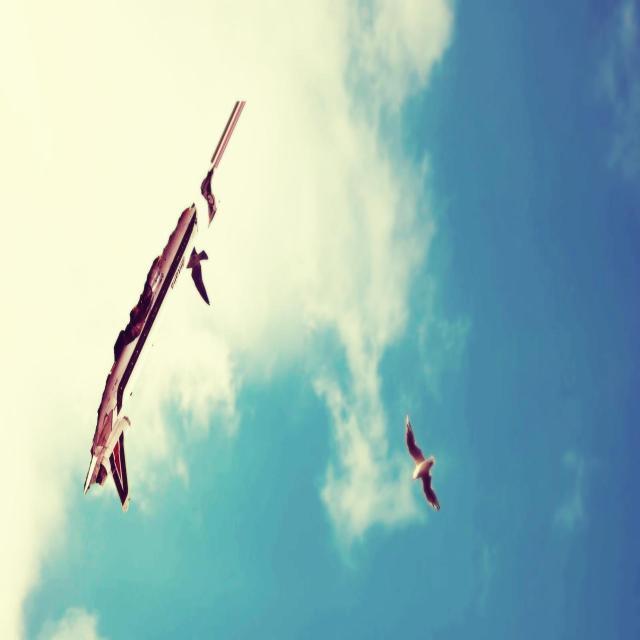airplane: (82, 99, 245, 512)
